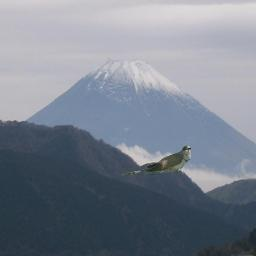Cuckoo: (121, 145, 191, 177)
